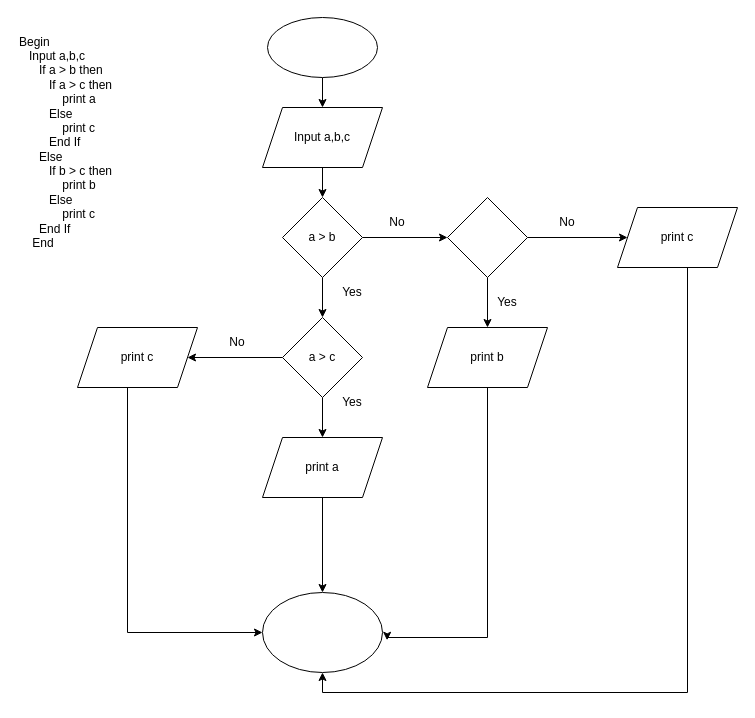
Some shapes in this 755 by 718 pixel diagram are drawn without their labels. The centre of each missing label's shape, as x and y in pixels:
"b > c" belongs at (487,237).
"Begin" belongs at (322,47).
"End" belongs at (322,632).
